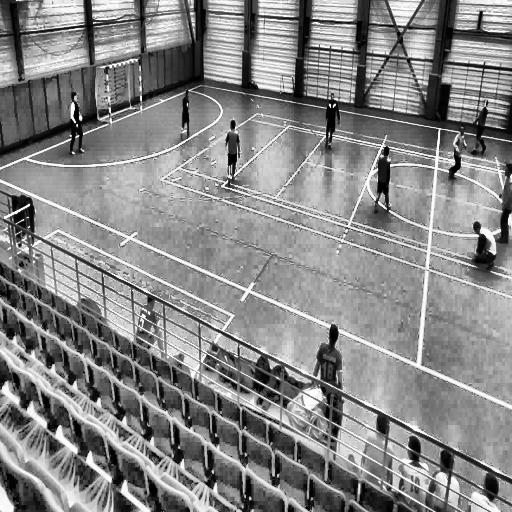ball: (78, 114, 84, 126)
player: (494, 160, 512, 246), (470, 220, 496, 277), (372, 144, 392, 215), (224, 118, 241, 189), (470, 99, 489, 158), (448, 124, 467, 181), (68, 90, 84, 156), (325, 96, 340, 152), (180, 90, 193, 142)
